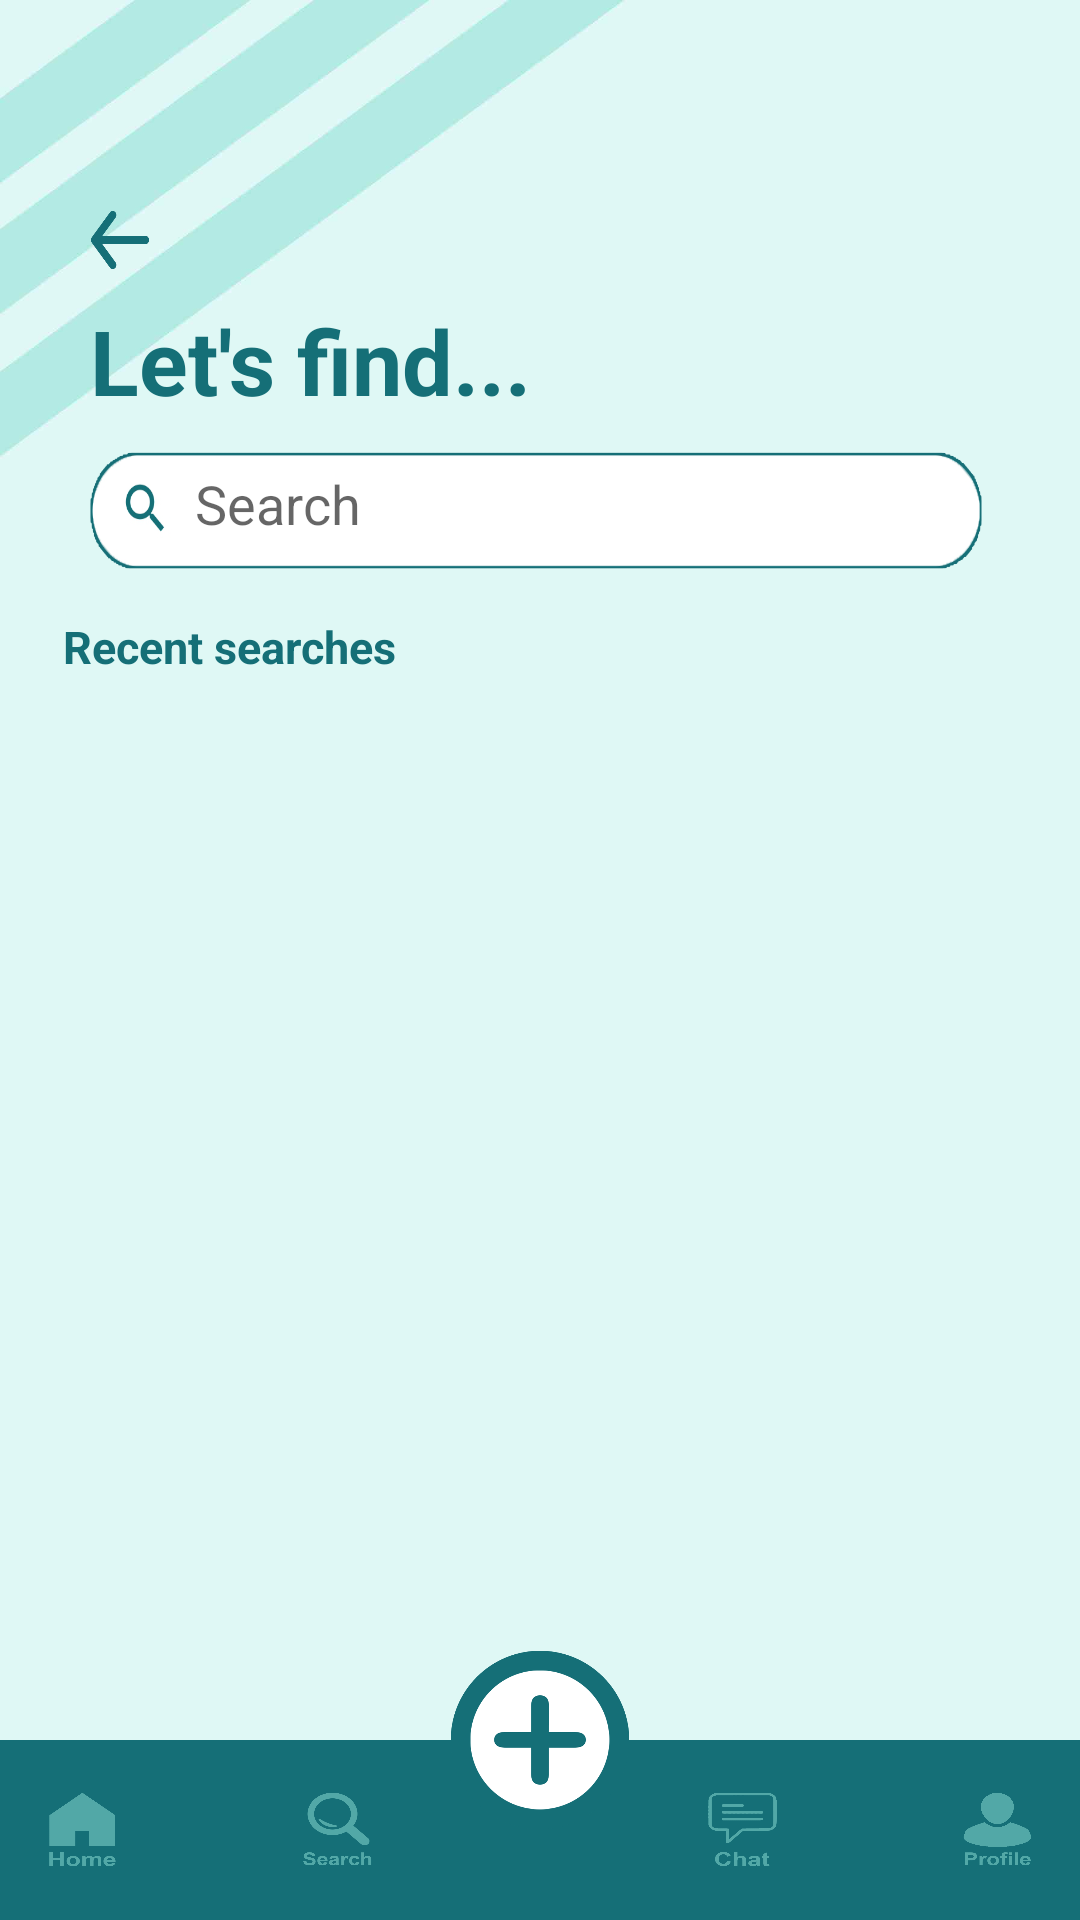

Point at icon controls on the screen. Image size 1080×1920, points as (x,y).
back arrow: (120,240)
plus sign: (540,1740)
